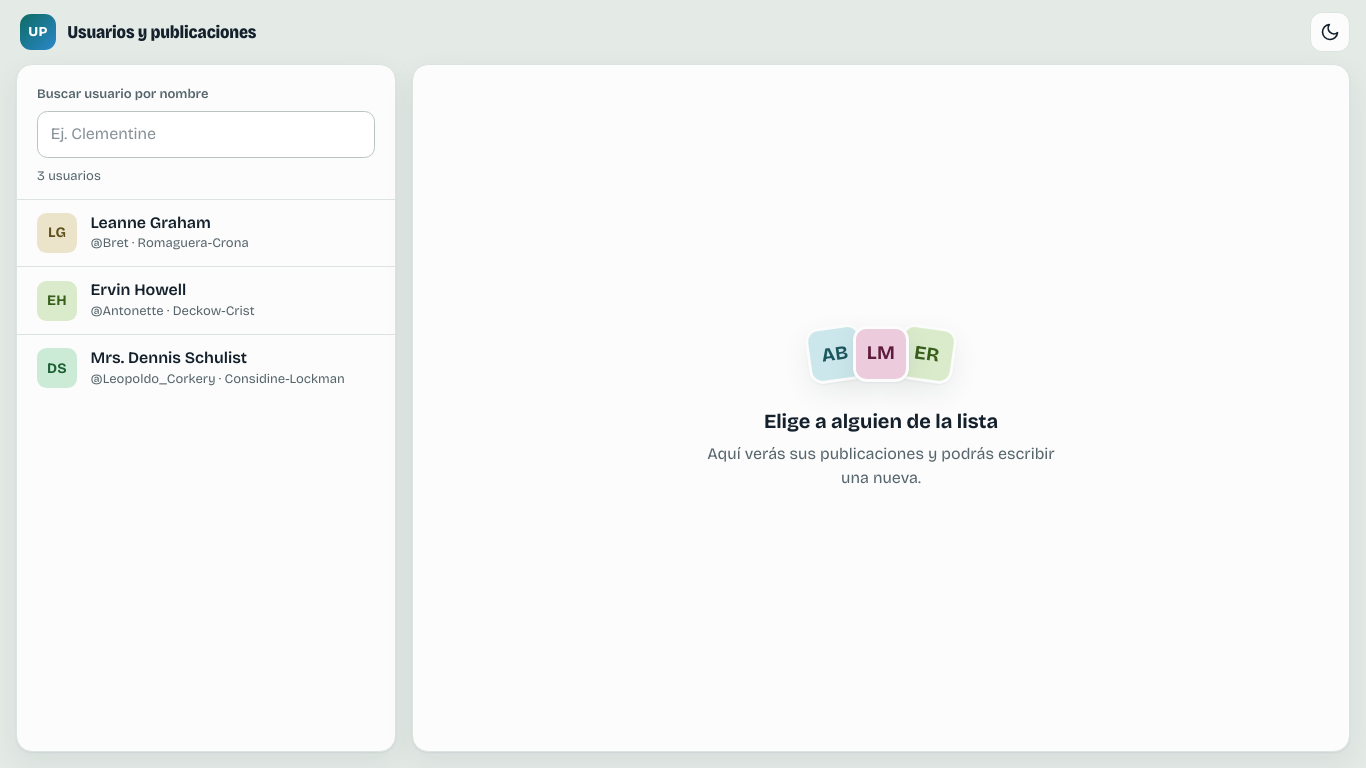
App › añade una publicación nueva y la conserva al cambiar de usuario
Click the button "LG Leanne Graham @Bret · Romaguera-Crona": click(206, 233) [17,200,395,266]
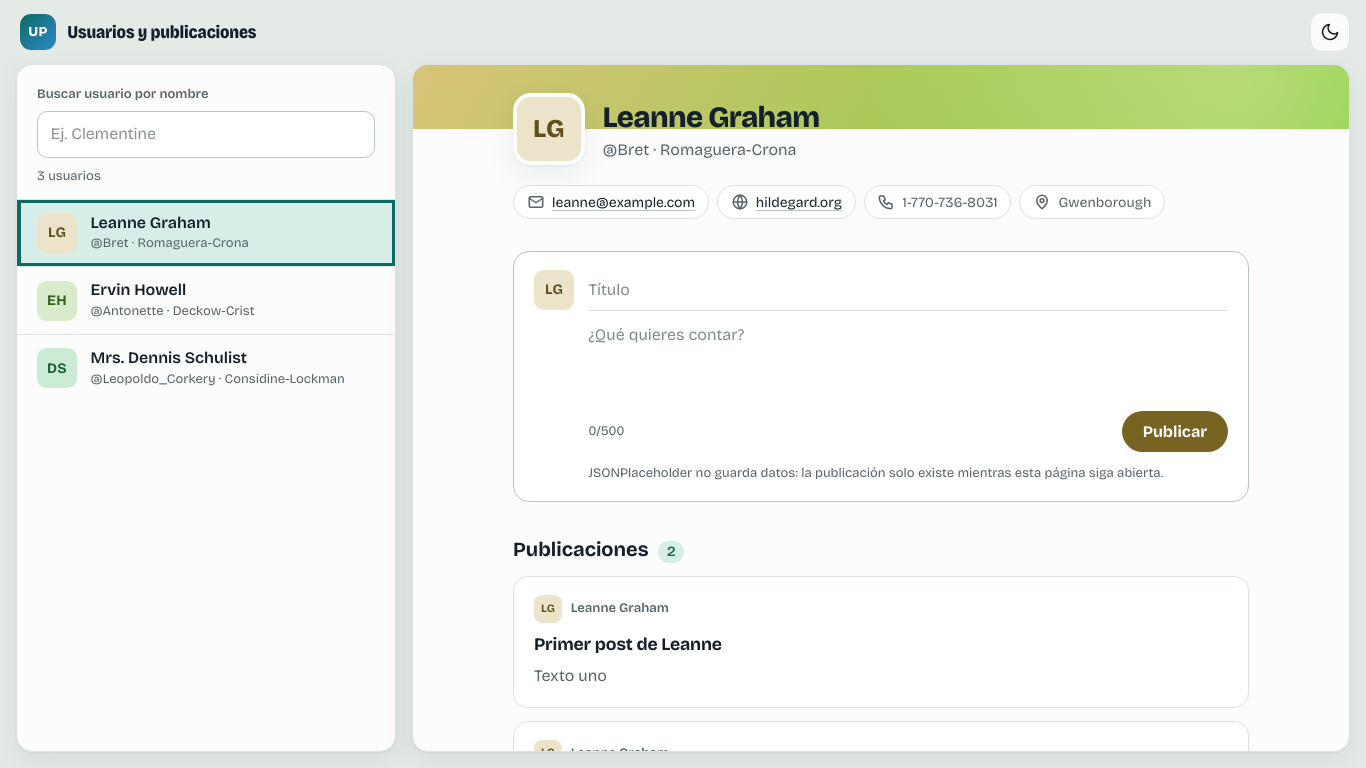
Now the heading "primer post de Leanne" is shown, box [534,634,722,655]
In the field labelled "Título": (908, 290) [588,270,1228,311], type "Mi publicación"
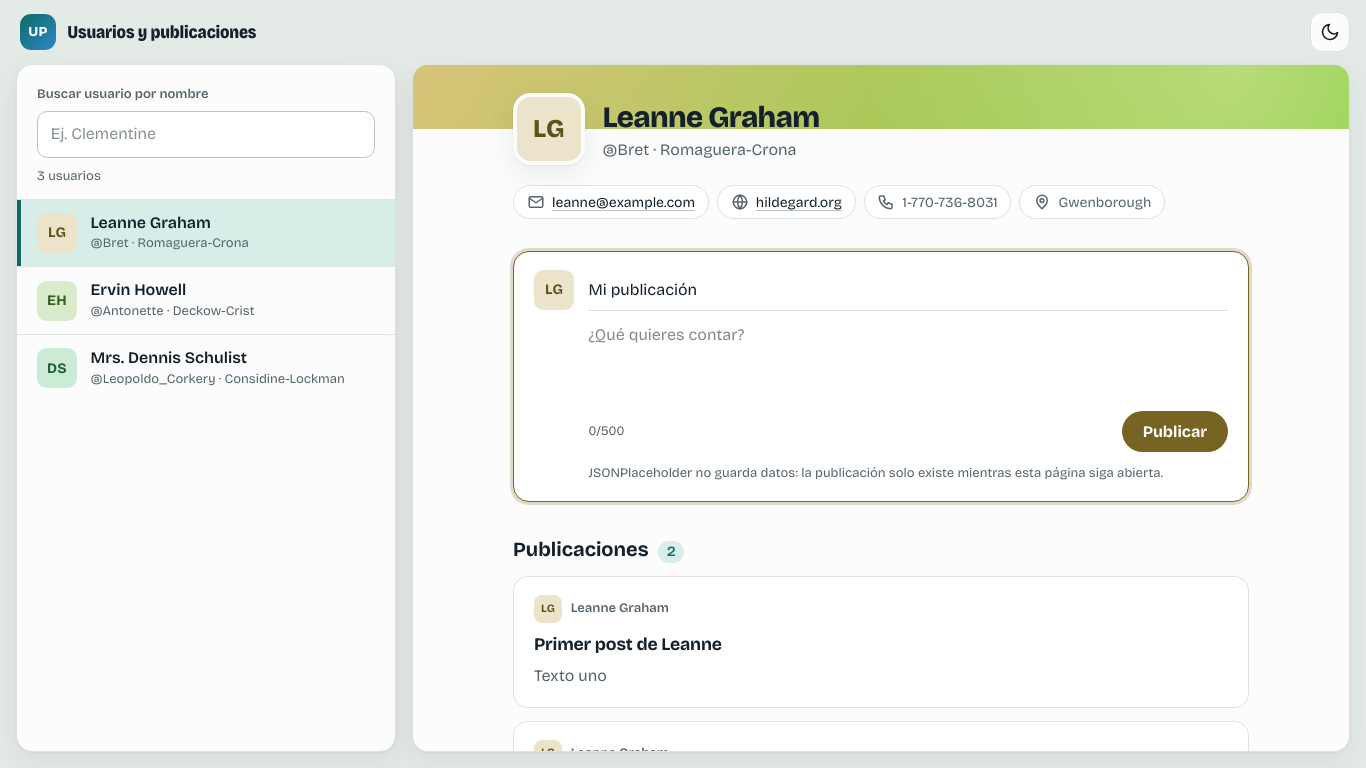
In the text box named "Texto": (908, 359) [588,315,1228,403], type "Cuerpo de prueba"
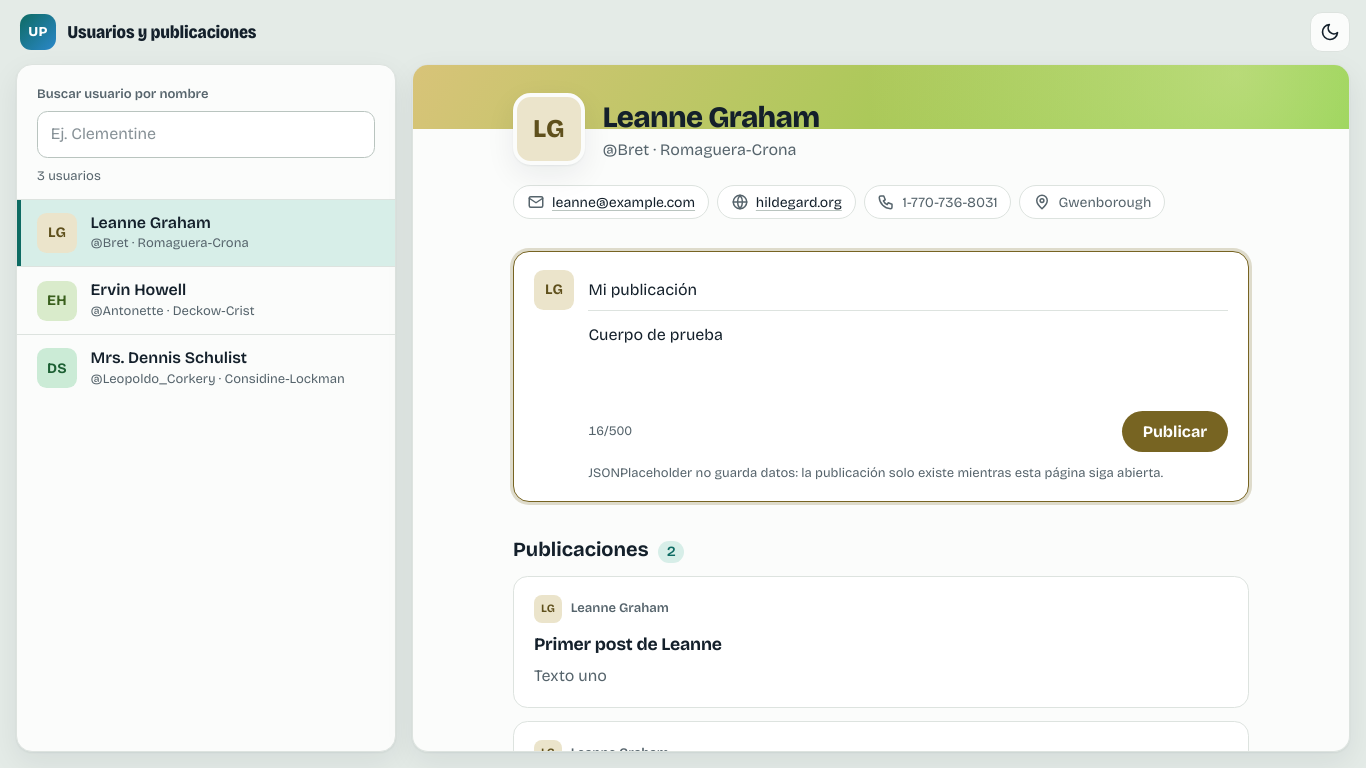
Click the button "Publicar": click(1175, 432) [1122,411,1228,452]
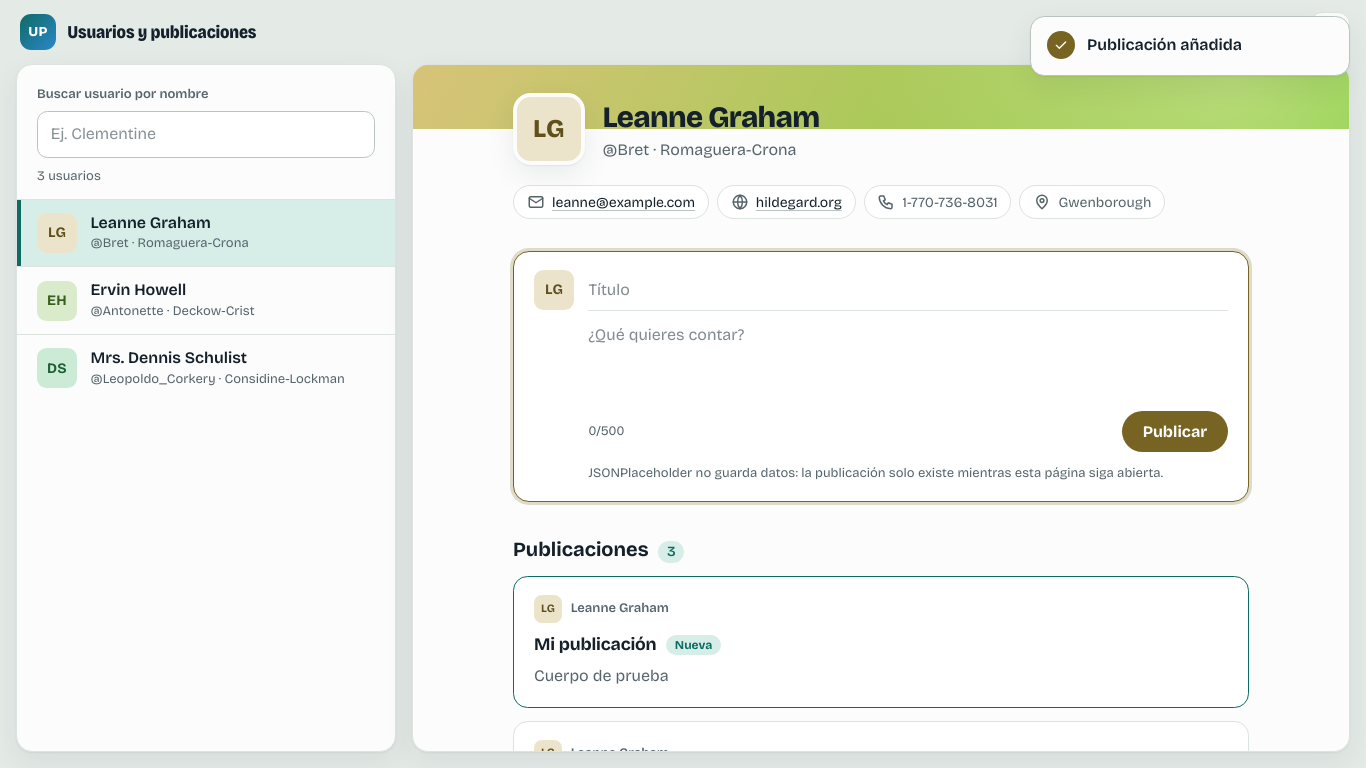
Now the heading "Mi publicación Nueva" is shown, box [534,634,721,655]
Now the text "Nueva" is shown, box [666,635,721,655]
Now the text "Publicación añadida" is shown, box [1087,33,1242,57]
Click the button "EH Ervin Howell @Antonette · Deckow-Crist": click(206, 300) [17,266,395,334]
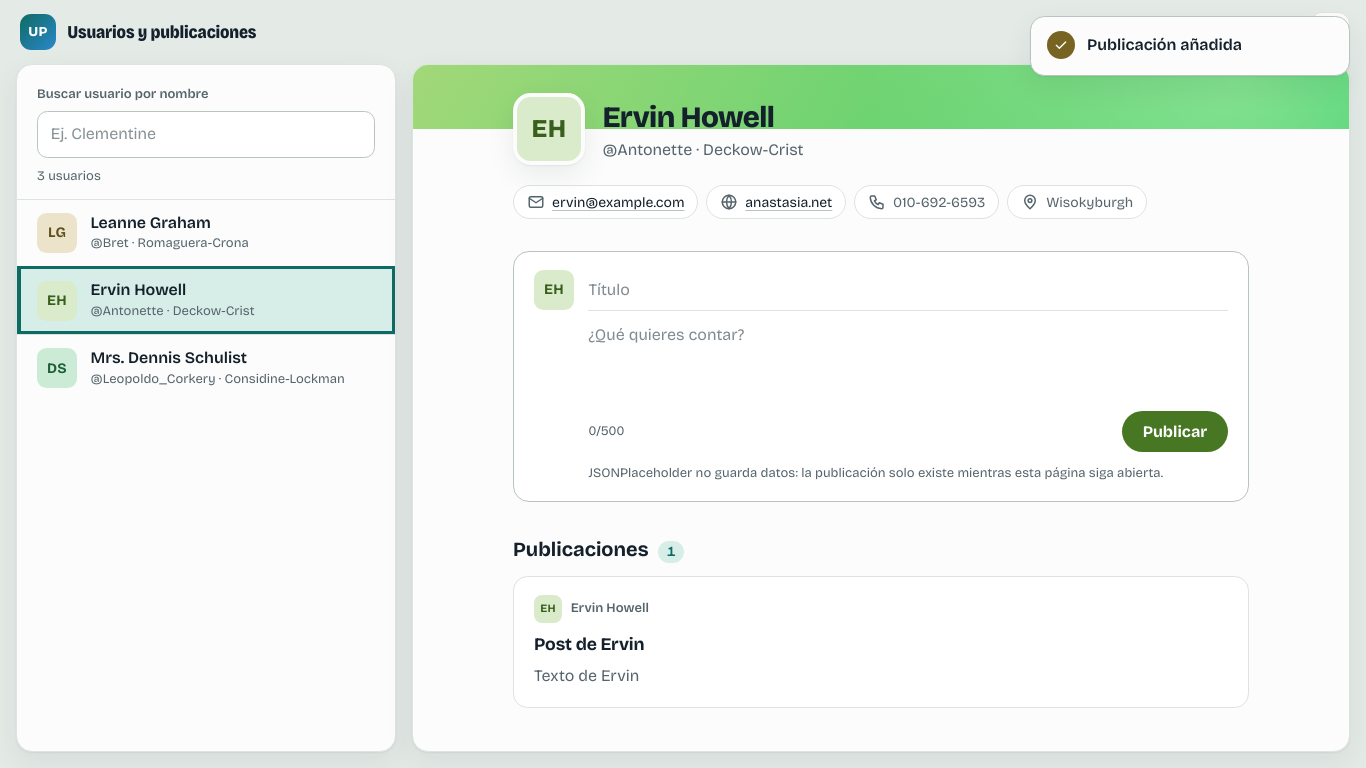
Now the heading "post de Ervin" is shown, box [534,634,644,655]
Now the heading "Mi publicación" is gone
Click the button "LG Leanne Graham @Bret · Romaguera-Crona": click(206, 233) [17,200,395,266]
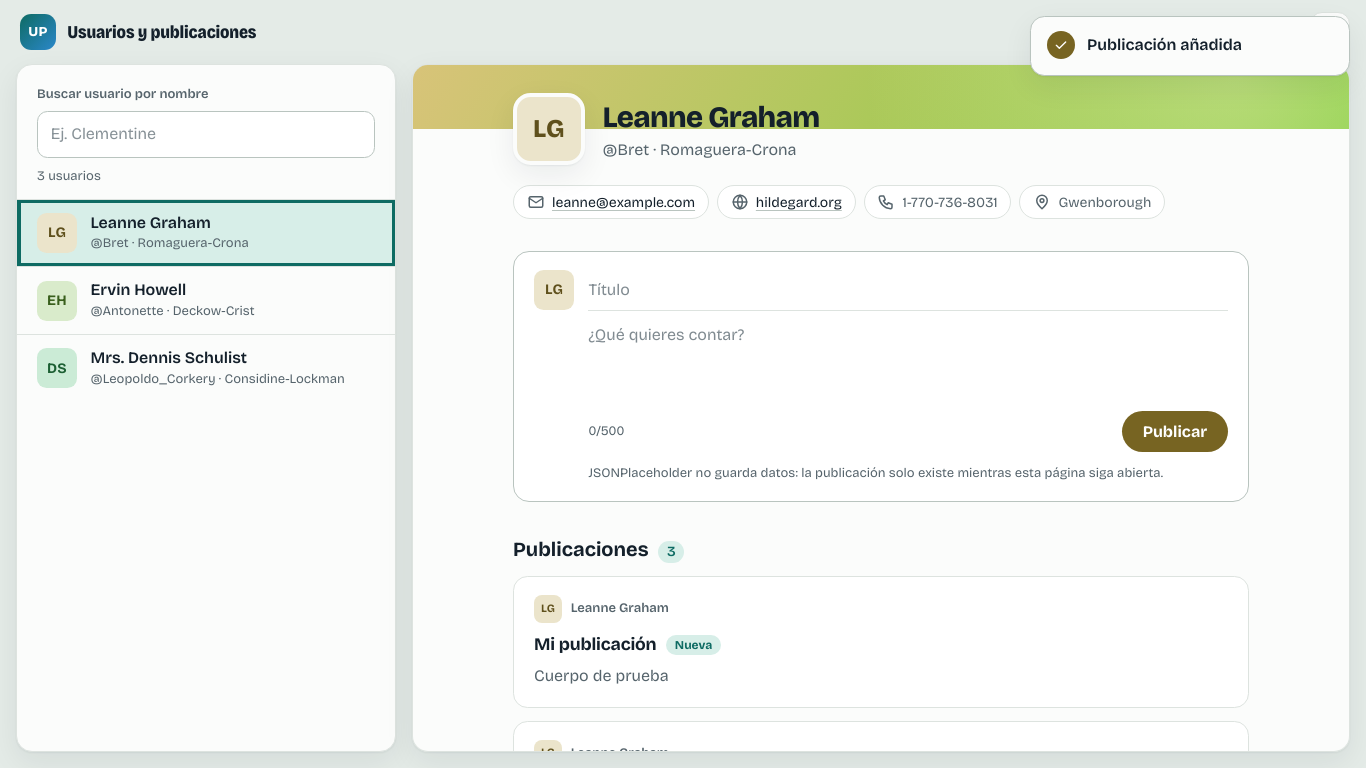
Now the heading "Mi publicación Nueva" is shown, box [534,634,721,655]
